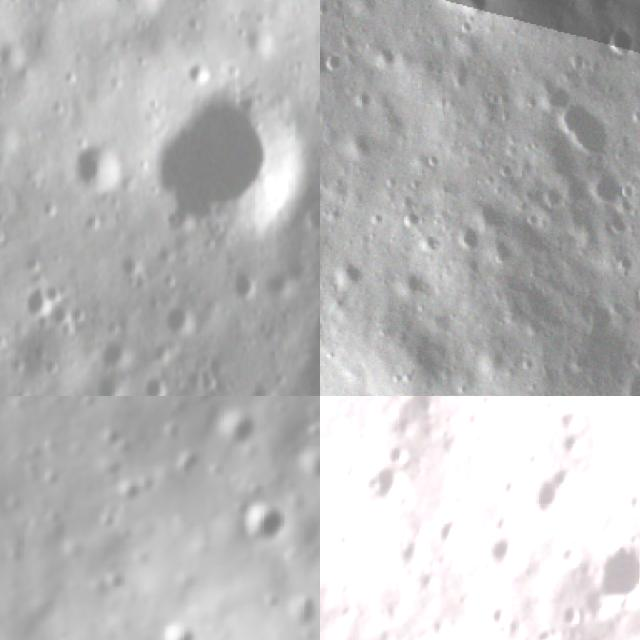crater: (153, 91, 310, 244), (66, 137, 127, 211), (548, 98, 614, 160), (587, 533, 640, 608), (524, 463, 578, 529), (368, 449, 414, 512), (14, 273, 68, 324), (238, 502, 294, 546), (96, 330, 140, 381), (213, 406, 265, 446), (597, 22, 640, 63), (471, 196, 514, 236), (428, 510, 470, 550), (588, 168, 628, 208), (283, 589, 320, 632), (104, 0, 173, 23), (336, 252, 371, 295), (342, 124, 380, 163), (425, 0, 502, 18), (554, 166, 590, 204), (486, 532, 525, 567), (398, 267, 429, 304), (151, 617, 197, 640), (139, 366, 174, 396), (370, 43, 400, 75), (487, 152, 518, 182), (535, 178, 564, 210), (296, 451, 320, 488), (349, 85, 378, 113), (394, 209, 423, 235), (320, 47, 344, 76), (320, 34, 333, 81), (320, 0, 331, 20)
